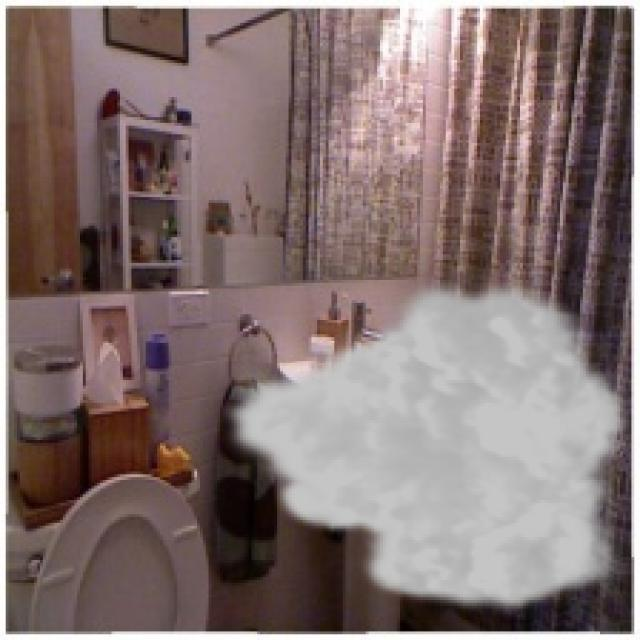Smoke: (217, 272, 632, 617)
